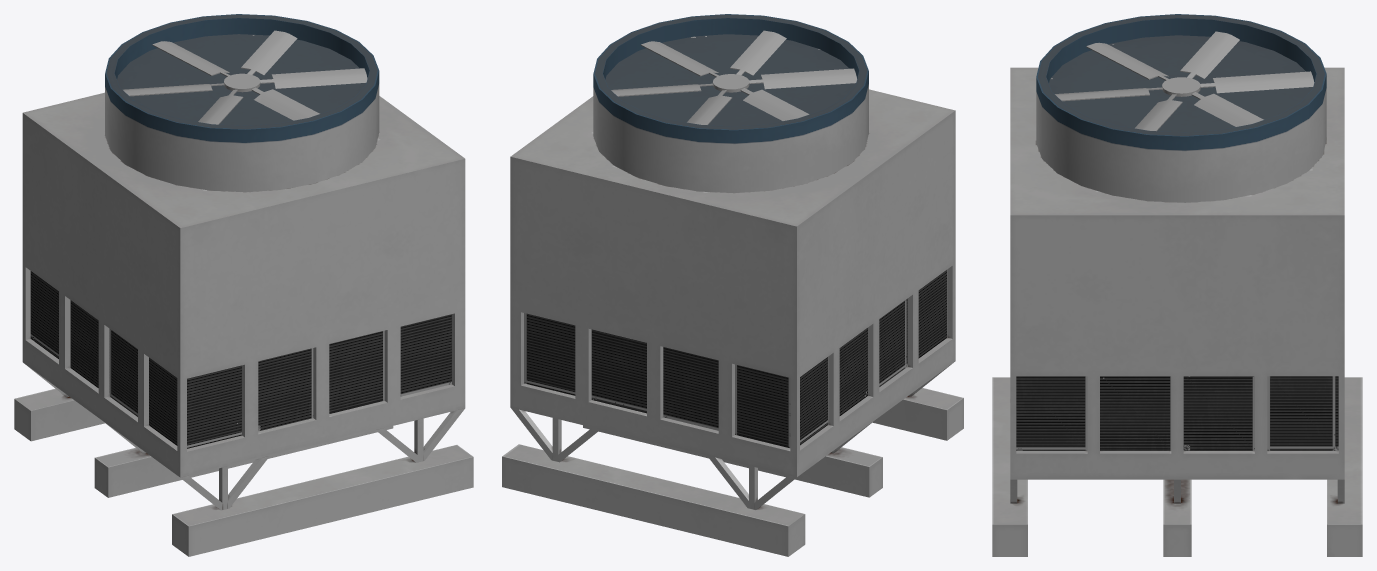
The model's file is cooling-tower-v1.raw.glb.
The picture shows the model from 3 angles, left to right: view 1: azimuth 30°, elevation 25°; view 2: azimuth 150°, elevation 25°; view 3: azimuth 270°, elevation 25°; orthographic projection. The views are drawn at different scales.
Visible parts, largest first — view 1: LenQueTa_TaShen, LenQueTa_ShanYe; view 2: LenQueTa_TaShen, LenQueTa_ShanYe; view 3: LenQueTa_TaShen, LenQueTa_ShanYe.
Boxes of the visible parts, x1,y1,x2,y2 form: LenQueTa_TaShen: [14, 14, 473, 556]; LenQueTa_ShanYe: [123, 30, 367, 124]; LenQueTa_TaShen: [502, 14, 963, 556]; LenQueTa_ShanYe: [611, 30, 856, 124]; LenQueTa_TaShen: [992, 14, 1362, 556]; LenQueTa_ShanYe: [1055, 31, 1314, 131].
Bounding box in the file's own units: 0.836 × 1.08 × 0.8872.
1 material, 1 textured.
